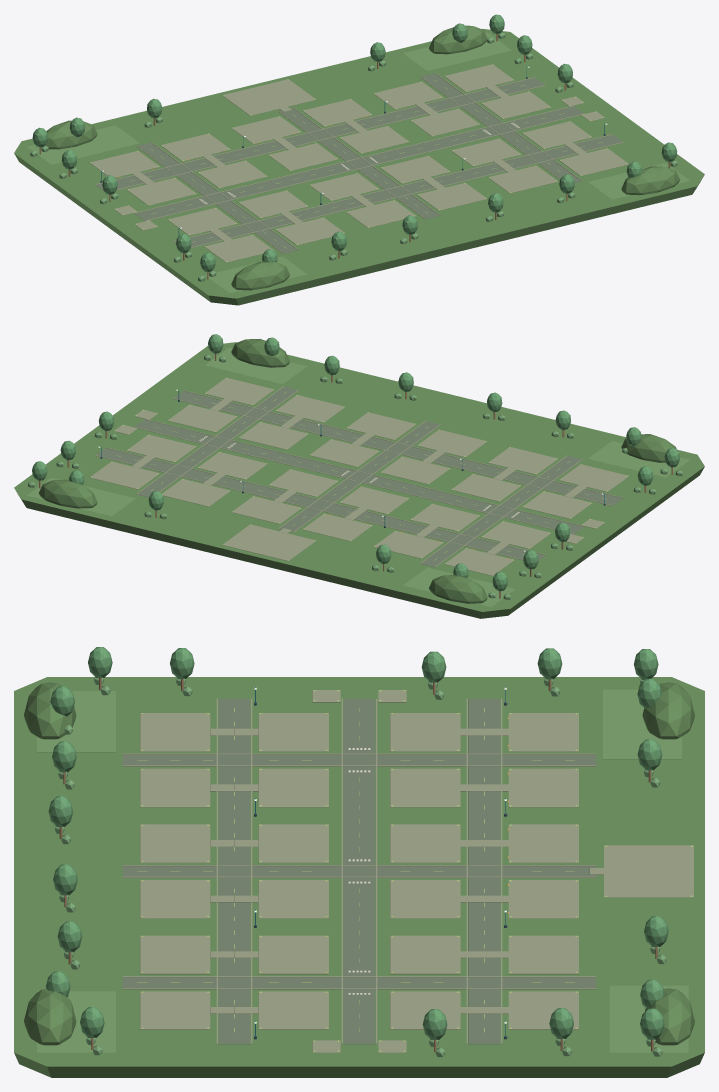
File: ground.glb
The picture shows the model from 3 angles, top to bottom: view 1: azimuth 30°, elevation 25°; view 2: azimuth 150°, elevation 25°; view 3: azimuth 270°, elevation 25°; orthographic projection. The views are drawn at different scales.
Visible parts, largest first — view 1: planet_jungle__Terrain, planet_jungle__Roads, planet_jungle__Decoration; view 2: planet_jungle__Terrain, planet_jungle__Roads, planet_jungle__Decoration; view 3: planet_jungle__Terrain, planet_jungle__Roads, planet_jungle__Decoration.
Boxes of the visible parts, x1=… form: planet_jungle__Terrain: x1=14, y1=28, x2=704, y2=305; planet_jungle__Roads: x1=90, y1=64, x2=628, y2=262; planet_jungle__Decoration: x1=30, y1=14, x2=680, y2=290; planet_jungle__Terrain: x1=14, y1=342, x2=704, y2=618; planet_jungle__Roads: x1=89, y1=377, x2=628, y2=575; planet_jungle__Decoration: x1=28, y1=334, x2=683, y2=603; planet_jungle__Terrain: x1=14, y1=677, x2=704, y2=1077; planet_jungle__Roads: x1=122, y1=690, x2=693, y2=1052; planet_jungle__Decoration: x1=24, y1=647, x2=694, y2=1057.
Size of the model in its own units: 140 by 10.95 by 105.
